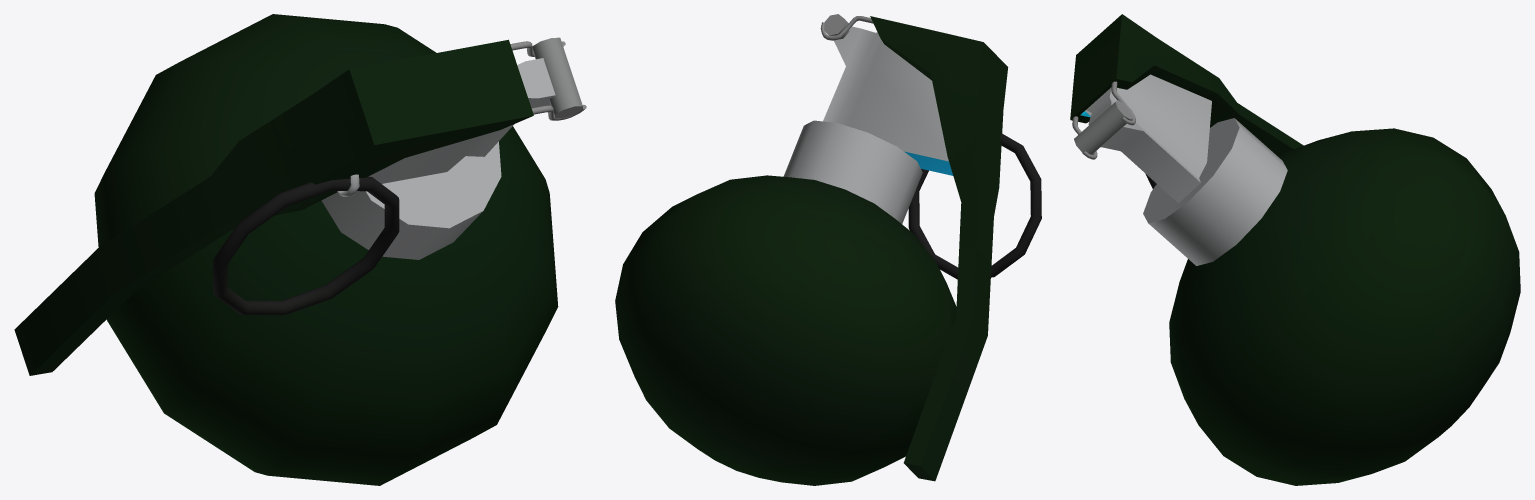
The model's file is Granada.fbx.
The picture shows the model from 3 angles, left to right: view 1: azimuth 30°, elevation 25°; view 2: azimuth 150°, elevation 25°; view 3: azimuth 270°, elevation 25°; orthographic projection. The views are drawn at different scales.
Visible parts, largest first — view 1: Granada; view 2: Granada; view 3: Granada.
Part boxes in pixels (x1,y1,x2,y2): Granada: (14,14,586,485); Granada: (615,14,1041,485); Granada: (1070,14,1520,485).
Bounding box in the file's own units: 12.12 × 13.13 × 13.16.
